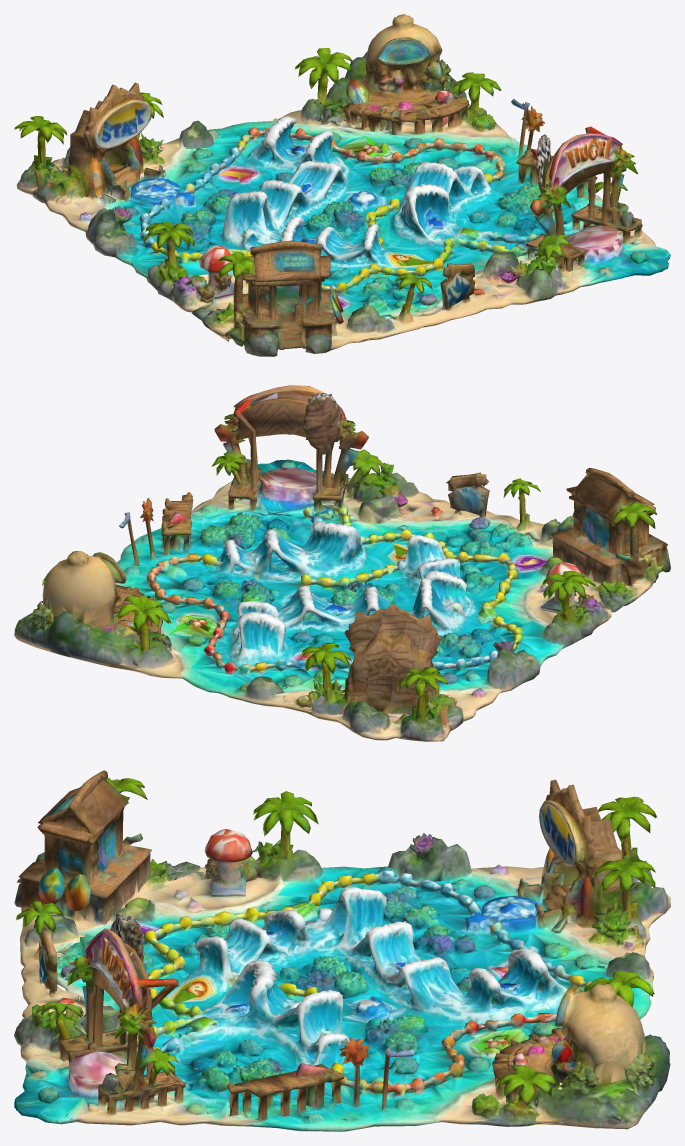
File: surf-break.glb
The picture shows the model from 3 angles, top to bottom: view 1: azimuth 30°, elevation 25°; view 2: azimuth 150°, elevation 25°; view 3: azimuth 270°, elevation 25°; orthographic projection. The views are drawn at different scales.
Parts seen in each view (by area): view 1: Mesh_0; view 2: Mesh_0; view 3: Mesh_0.
Part boxes in pixels (<box>): Mesh_0: <box>14,14,670,356</box>; Mesh_0: <box>14,385,670,741</box>; Mesh_0: <box>14,770,670,1131</box>.
Size of the model in its own units: 1.86 by 0.4808 by 1.9.
1 material, 1 textured.
